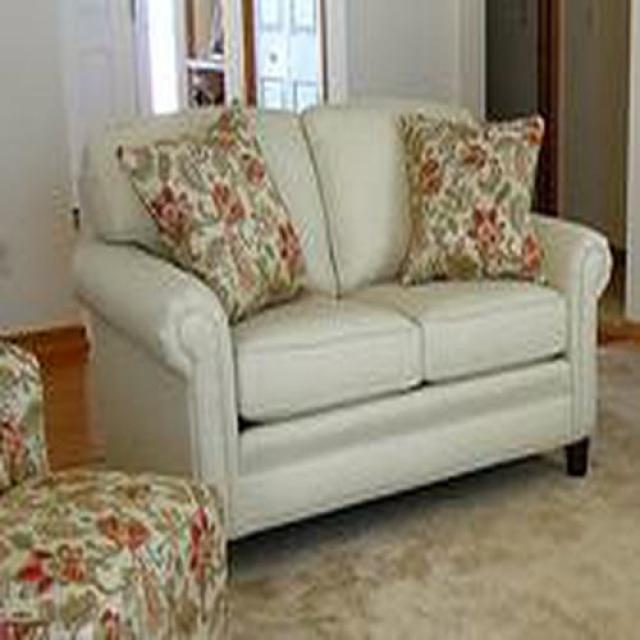sofa: (72, 104, 613, 544)
